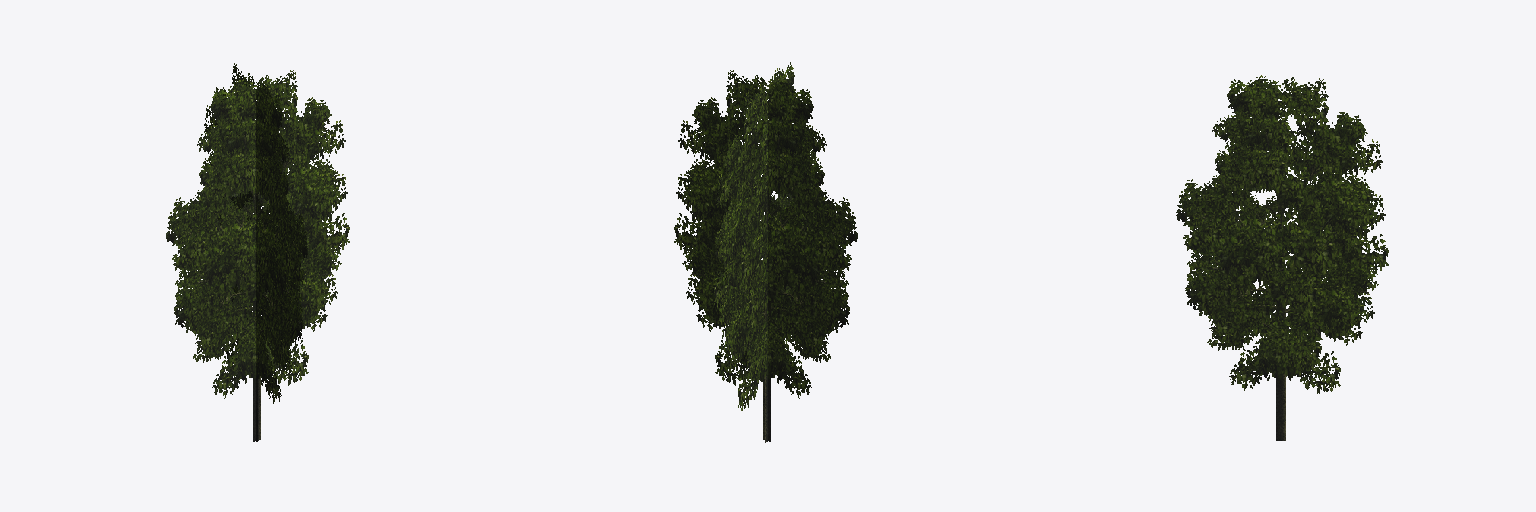
3 views of the same model, side by side, from view 1: azimuth 30°, elevation 25°; view 2: azimuth 150°, elevation 25°; view 3: azimuth 270°, elevation 25° (orthographic).
Parts seen in each view (by area): view 1: CreateFan; view 2: CreateFan; view 3: CreateFan.
Part boxes in pixels (x1,y1,x2,y2): CreateFan: (166, 63, 349, 441); CreateFan: (674, 62, 857, 442); CreateFan: (1176, 75, 1388, 440).
Bounding box in the file's own units: 7.74 × 13.5 × 7.74.
1 materials, 1 textured.